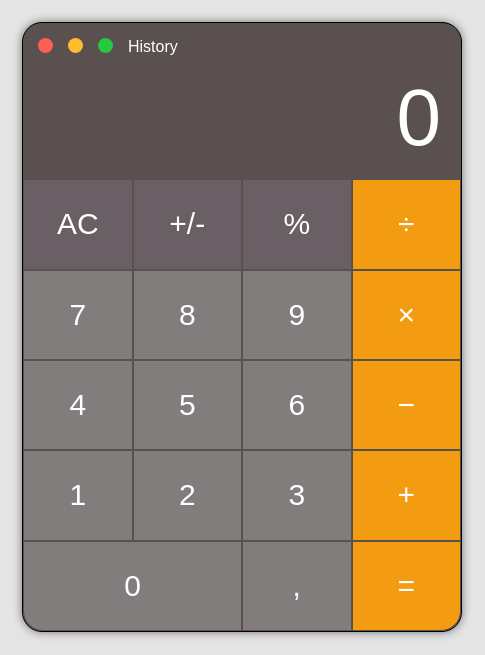
Test case: Calculator Component › should clear input when C is pressed
This screenshot has width=485, height=655.
Click the button "7".
click(78, 315)  # box [23,270,132,360]
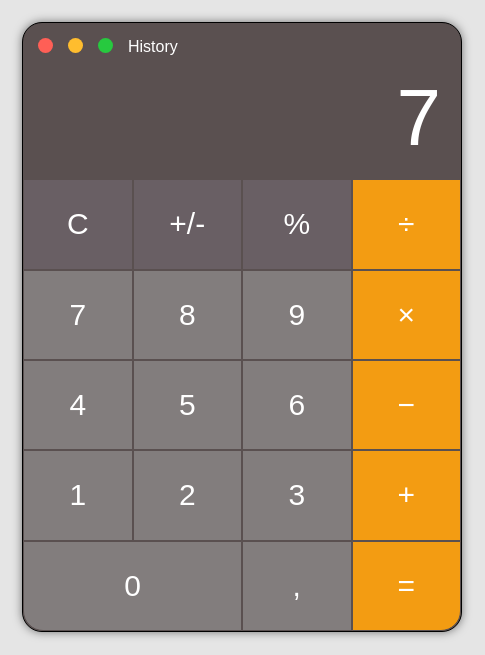
Expected: the field with placeholder "0" holds "7", [38,71,441,173]
Click the button "C".
click(78, 224)  # box [23,179,132,270]
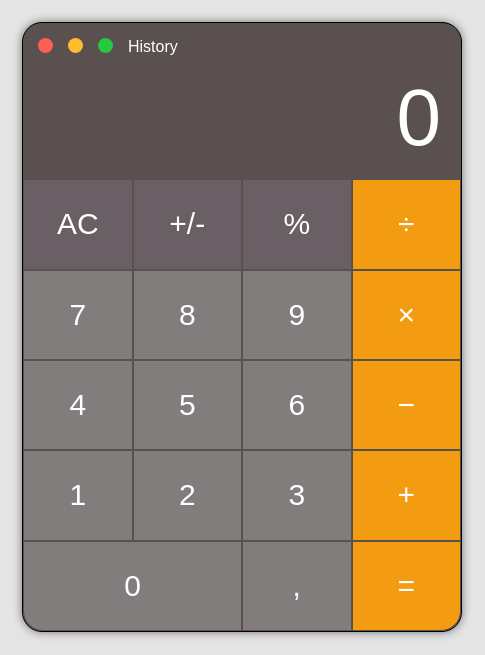
Expected: the field with placeholder "0" holds "0", [38,71,441,173]
